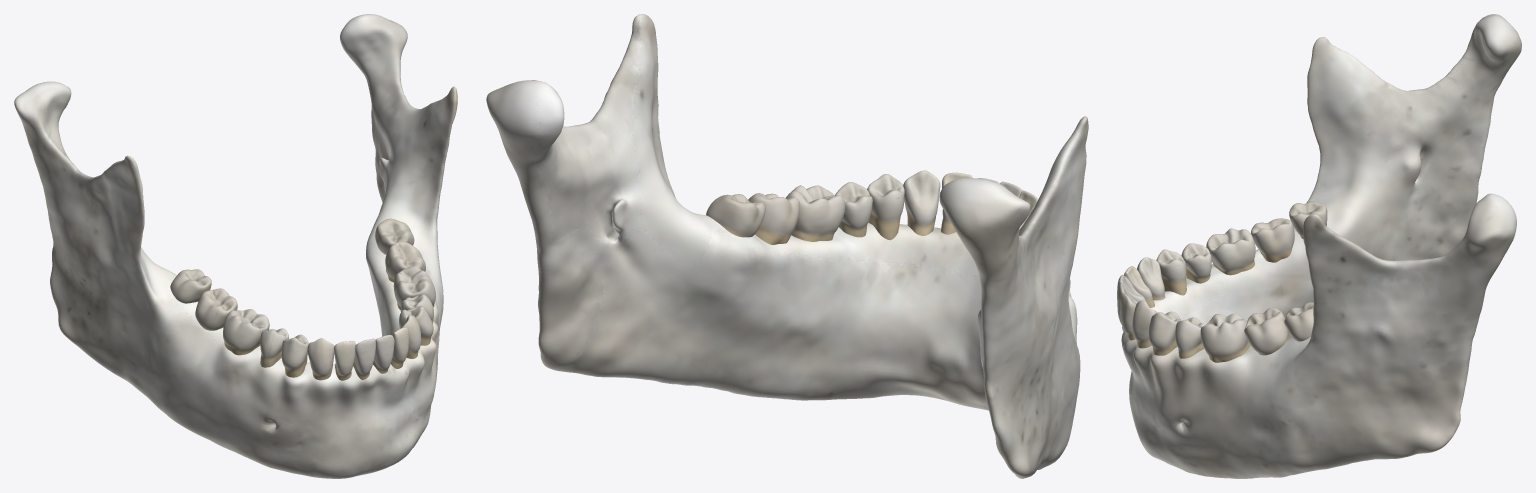
The model's file is mandible-compressed.glb.
The picture shows the model from 3 angles, left to right: view 1: azimuth 30°, elevation 25°; view 2: azimuth 150°, elevation 25°; view 3: azimuth 270°, elevation 25°; orthographic projection. The views are drawn at different scales.
Visible parts, largest first — view 1: Mandibleobjcleanergles; view 2: Mandibleobjcleanergles; view 3: Mandibleobjcleanergles.
Boxes of the visible parts, bbox=[...] form: Mandibleobjcleanergles: bbox=[14, 14, 457, 478]; Mandibleobjcleanergles: bbox=[486, 14, 1088, 478]; Mandibleobjcleanergles: bbox=[1117, 14, 1521, 478].
Bounding box in the file's own units: 10.74 × 8.31 × 9.
Materials: 9 (9 with a texture image).
